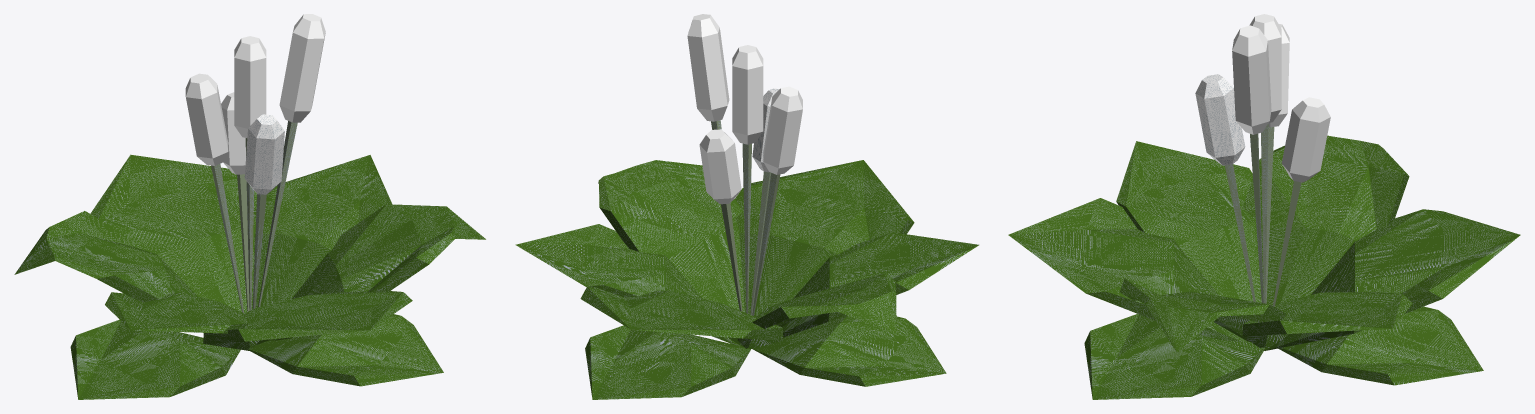
The model's file is Flower.fbx.
3 views of the same model, side by side, from view 1: azimuth 30°, elevation 25°; view 2: azimuth 150°, elevation 25°; view 3: azimuth 270°, elevation 25° (orthographic). The views are drawn at different scales.
Parts seen in each view (by area): view 1: Group6, Group3, Group25, Group7, Group24, Group5, Group4, Group2, Group15, Group9, Group12, Group18 (+6 smaller); view 2: Group4, Group7, Group23, Group25, Group3, Group2, Group6, Group5, Group15, Group12, Group9, Group21 (+5 smaller); view 3: Group5, Group2, Group4, Group6, Group24, Group23, Group3, Group7, Group15, Group18, Group21, Group12 (+6 smaller).
Part boxes in pixels (box(x1,y1,x2,y2)): Group6: box(90, 154, 256, 313); Group3: box(252, 155, 391, 309); Group25: box(70, 319, 240, 399); Group7: box(269, 204, 485, 340); Group24: box(247, 314, 443, 386); Group5: box(14, 211, 197, 302); Group4: box(203, 291, 412, 350); Group2: box(105, 292, 259, 348); Group15: box(279, 14, 325, 122); Group9: box(185, 73, 228, 165); Group12: box(234, 36, 266, 137); Group18: box(244, 114, 284, 194); Group4: box(735, 160, 914, 316); Group7: box(598, 160, 744, 312); Group23: box(585, 325, 750, 399); Group25: box(752, 315, 946, 386); Group3: box(515, 224, 740, 345); Group2: box(782, 232, 978, 337); Group6: box(580, 286, 783, 349); Group5: box(737, 273, 896, 348); Group15: box(687, 14, 729, 121); Group12: box(732, 45, 763, 144); Group9: box(763, 86, 802, 174); Group21: box(699, 129, 741, 204); Group5: box(1242, 135, 1409, 305); Group2: box(1116, 141, 1261, 302); Group4: box(1008, 198, 1246, 341); Group6: box(1265, 209, 1520, 350); Group24: box(1084, 314, 1265, 399); Group23: box(1278, 306, 1483, 385); Group3: box(1242, 291, 1412, 350); Group7: box(1119, 278, 1289, 352); Group15: box(1232, 25, 1271, 134); Group18: box(1195, 74, 1245, 165); Group21: box(1281, 97, 1330, 182); Group12: box(1249, 14, 1281, 122).
Bounding box in the file's own units: 658 × 526 × 700.
